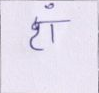anusvara: (45, 4, 53, 9)
